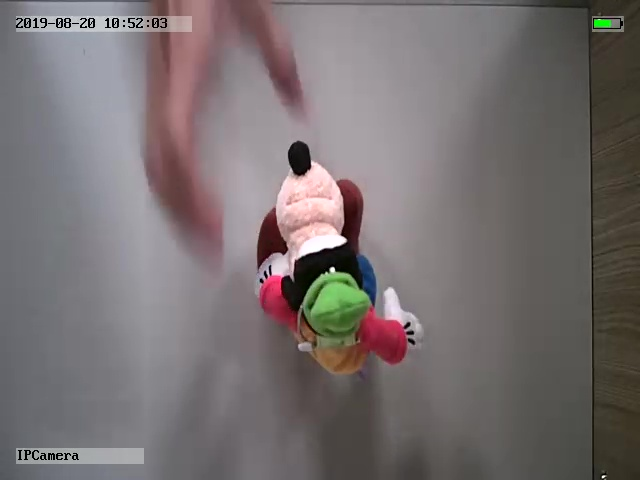goofy: (251, 139, 424, 375)
